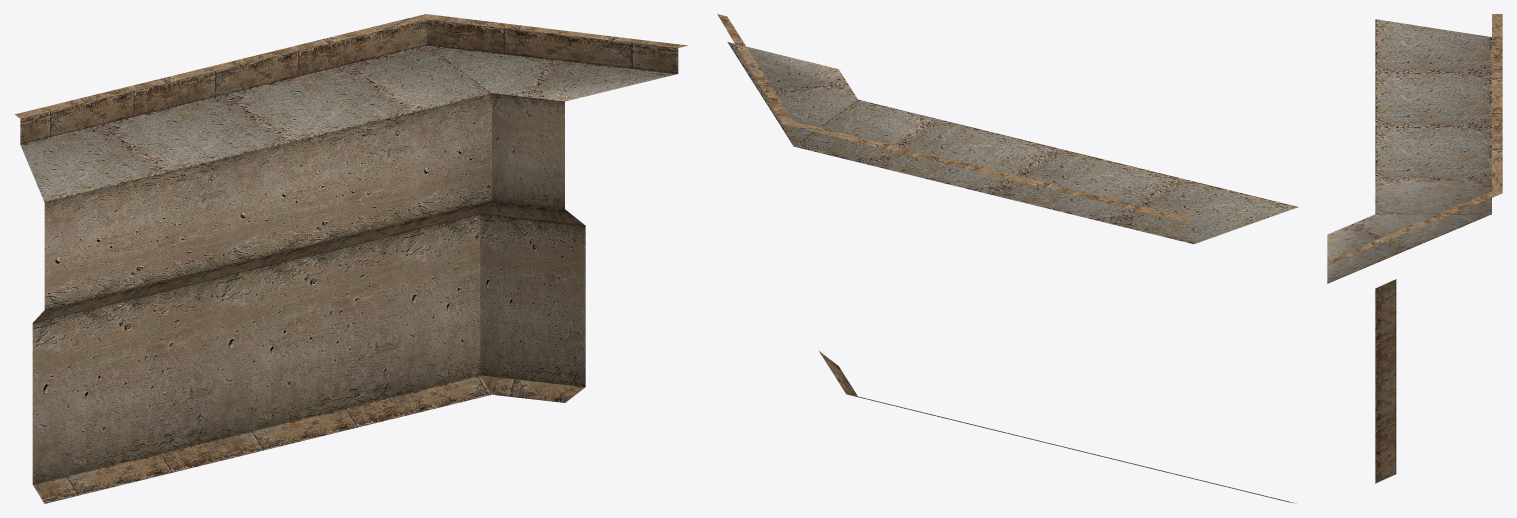
The model's file is M11_CompWallInner_B3.glb.
The picture shows the model from 3 angles, left to right: view 1: azimuth 30°, elevation 25°; view 2: azimuth 150°, elevation 25°; view 3: azimuth 270°, elevation 25°; orthographic projection. The views are drawn at different scales.
Visible parts, largest first — view 1: M11_COMPWALLINNER_B3; view 2: M11_COMPWALLINNER_B3; view 3: M11_COMPWALLINNER_B3.
Part boxes in pixels (x1,y1,x2,y2): M11_COMPWALLINNER_B3: [14, 14, 687, 503]; M11_COMPWALLINNER_B3: [717, 14, 1298, 503]; M11_COMPWALLINNER_B3: [1327, 14, 1502, 483].
Size of the model in its own units: 15 by 7.6 by 4.12.
Materials: 3 (3 with a texture image).
